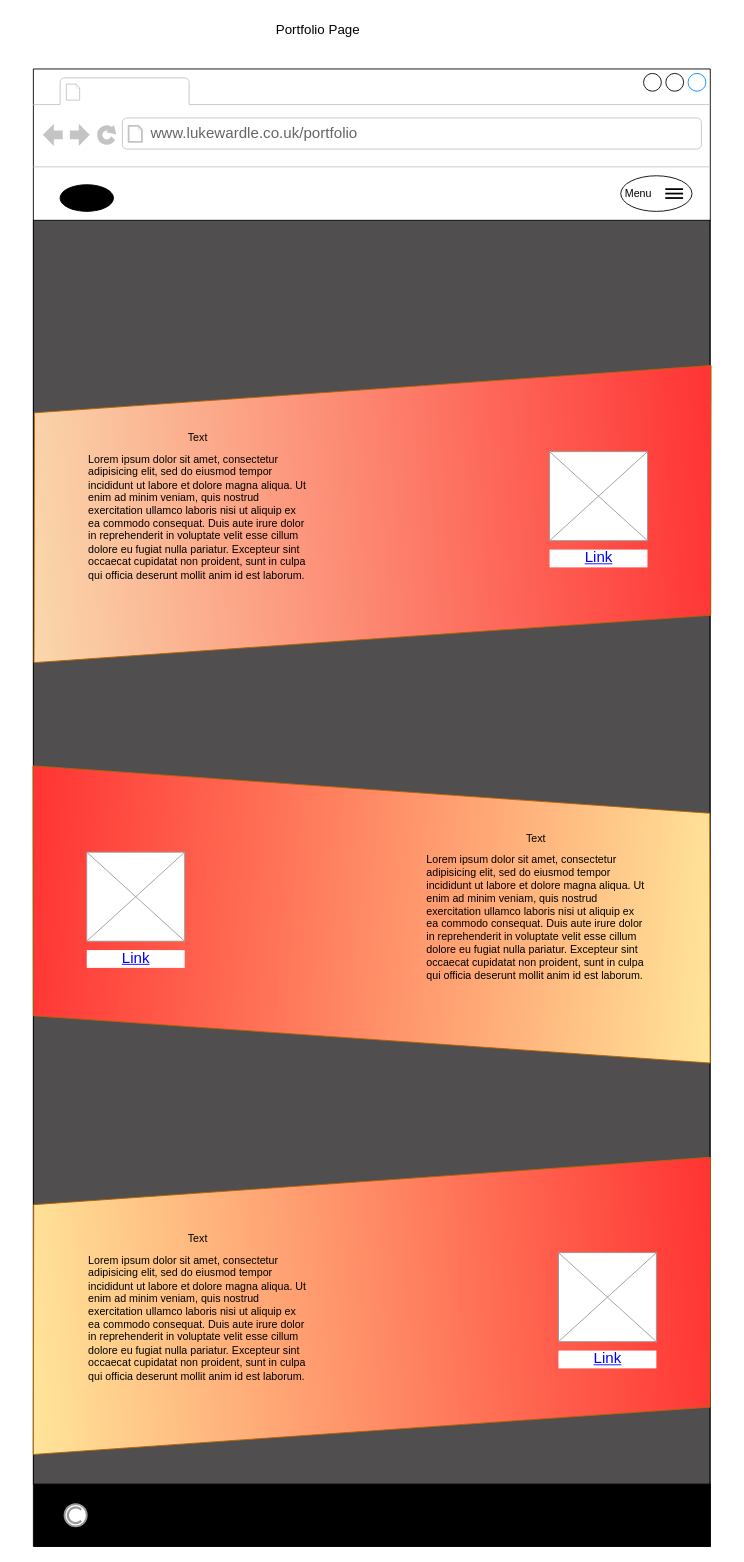
Some shapes in this 744 by 1562 pixel diagram are drawn without their labels. Each missing label, with the centre of its shape:
Logo: the point at 86,197
Portfolio: the point at 135,91
